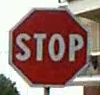stop: (7, 6, 91, 87)
